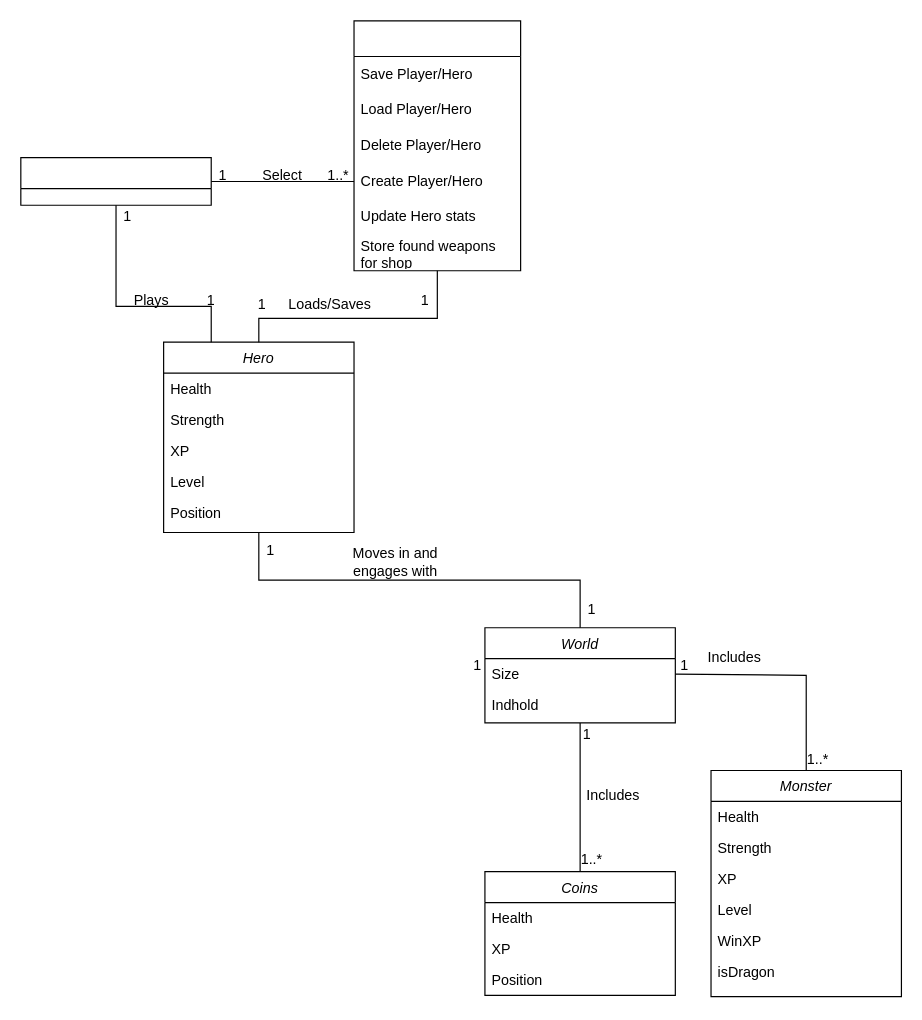
This 922x1020 diagram has some shape labels left out. Each missing label, with the box of its shape:
DB: (353, 20, 521, 271)
Player: (20, 156, 211, 205)
